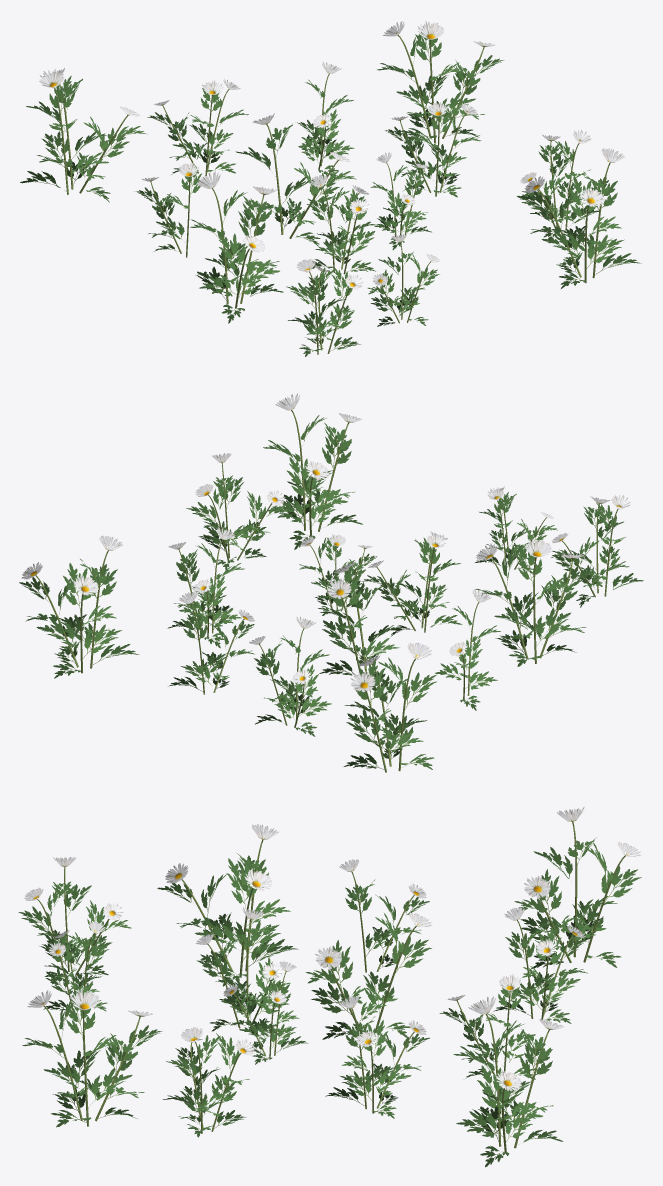
The model's file is SM_Plant_00.fbx.
3 renders of one model, top to bottom at view 1: azimuth 30°, elevation 25°; view 2: azimuth 150°, elevation 25°; view 3: azimuth 270°, elevation 25°, orthographic. The views are drawn at different scales.
Visible parts, largest first — view 1: SM_Plant_00; view 2: SM_Plant_00; view 3: SM_Plant_00.
Part boxes in pixels (box(x1,y1,x2,y2)): SM_Plant_00: box(20, 21, 641, 356); SM_Plant_00: box(19, 393, 643, 772); SM_Plant_00: box(18, 807, 641, 1167).
Bounding box in the file's own units: 60.1 × 64.69 × 17.46.
Materials: 3 (3 with a texture image).
